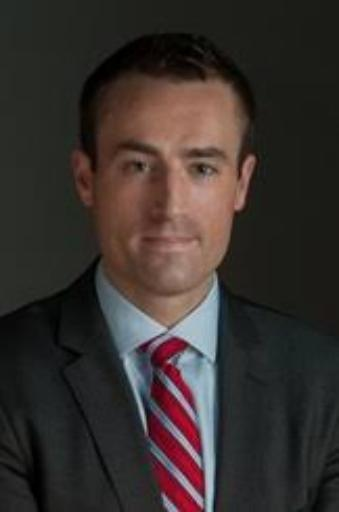left_eye: (188, 162, 223, 184)
left_lip_corner: (189, 235, 203, 249)
right_eye: (120, 159, 159, 182)
right_lip_corner: (138, 232, 152, 248)
